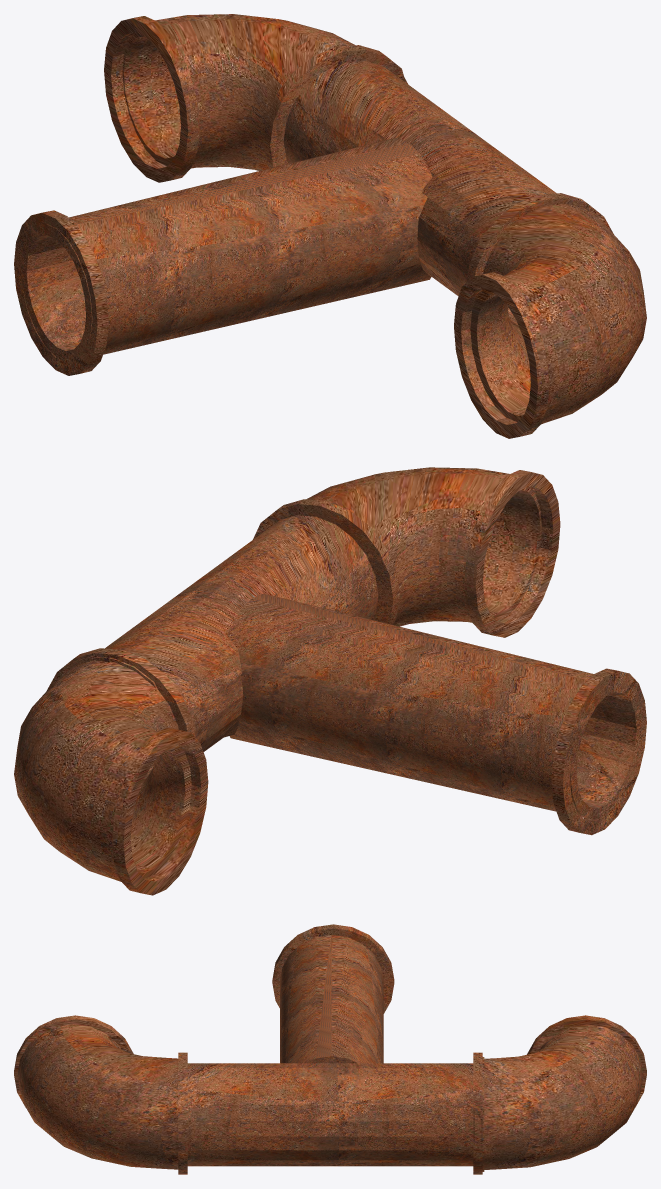
File: pipe 10 c.fbx
The picture shows the model from 3 angles, top to bottom: view 1: azimuth 30°, elevation 25°; view 2: azimuth 150°, elevation 25°; view 3: azimuth 270°, elevation 25°; orthographic projection. The views are drawn at different scales.
Visible parts, largest first — view 1: pCylinder184; view 2: pCylinder184; view 3: pCylinder184.
Part boxes in pixels (bbox=[...]): pCylinder184: bbox=[14, 14, 646, 438]; pCylinder184: bbox=[14, 467, 646, 895]; pCylinder184: bbox=[14, 924, 646, 1174].
Size of the model in its own units: 5795 by 1882 by 9546.
